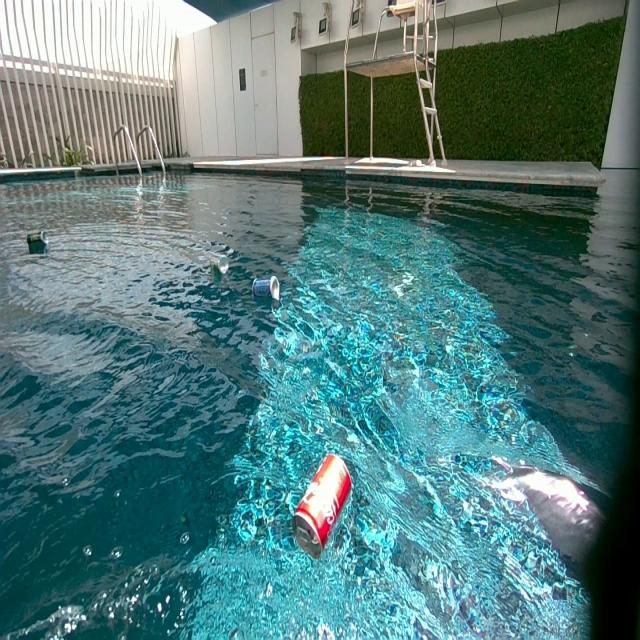Cans: (291, 452, 353, 556), (253, 276, 280, 300), (26, 231, 48, 251), (210, 258, 228, 277)
